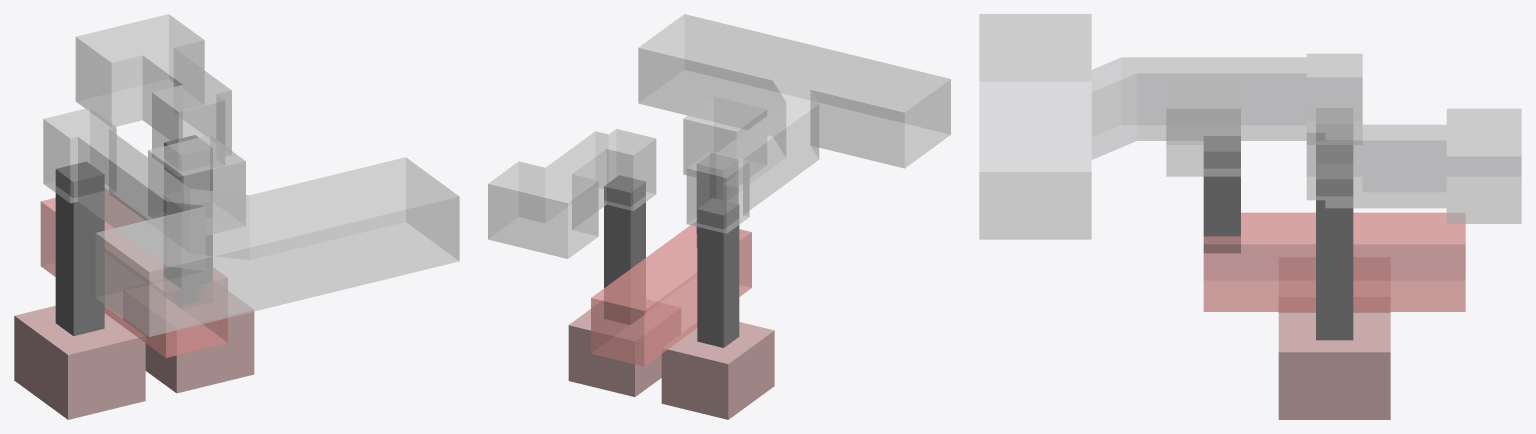
The model's file is board.glb.
The picture shows the model from 3 angles, left to right: view 1: azimuth 30°, elevation 25°; view 2: azimuth 150°, elevation 25°; view 3: azimuth 270°, elevation 25°; orthographic projection. The views are drawn at different scales.
Parts seen in each view (by area): view 1: Copper_Net3_Contour0 (×3), Copper_Net2_Contour0 (×3), Copper_Net1_Contour0 (×3); view 2: Copper_Net3_Contour0 (×3), Copper_Net2_Contour0 (×3), Copper_Net1_Contour0 (×3); view 3: Copper_Net3_Contour0 (×3), Copper_Net2_Contour0 (×3), Copper_Net1_Contour0 (×3).
Boxes of the visible parts, <box> form: Copper_Net3_Contour0 (×3): <box>14,107,459,419</box>; Copper_Net2_Contour0 (×3): <box>75,14,254,393</box>; Copper_Net1_Contour0 (×3): <box>40,135,245,357</box>; Copper_Net3_Contour0 (×3): <box>638,14,950,419</box>; Copper_Net2_Contour0 (×3): <box>488,129,680,396</box>; Copper_Net1_Contour0 (×3): <box>591,96,767,366</box>; Copper_Net3_Contour0 (×3): <box>979,14,1390,312</box>; Copper_Net2_Contour0 (×3): <box>1278,108,1521,419</box>; Copper_Net1_Contour0 (×3): <box>1166,77,1465,311</box>.
Bounding box in the file's own units: 2e-06 × 1.65e-06 × 2.9e-06.
